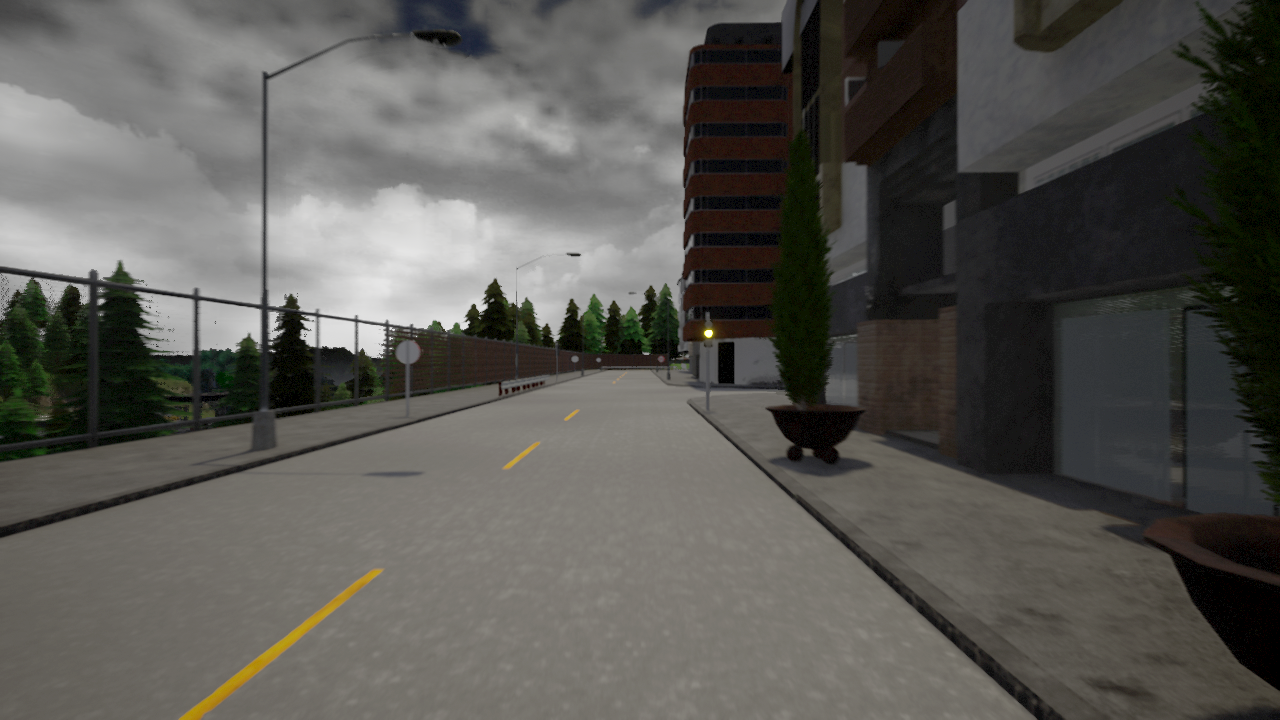yellow: (702, 319, 715, 347)
